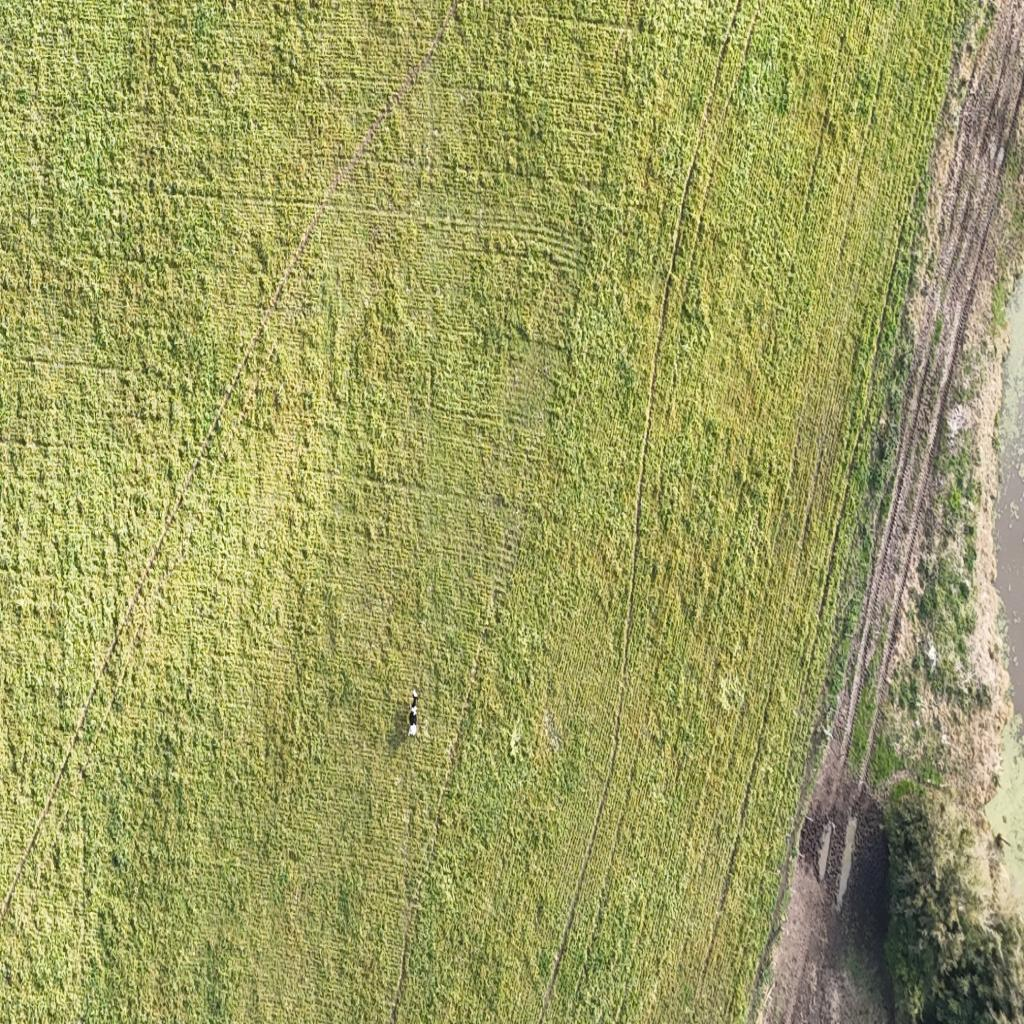cow: (408, 687, 424, 742)
